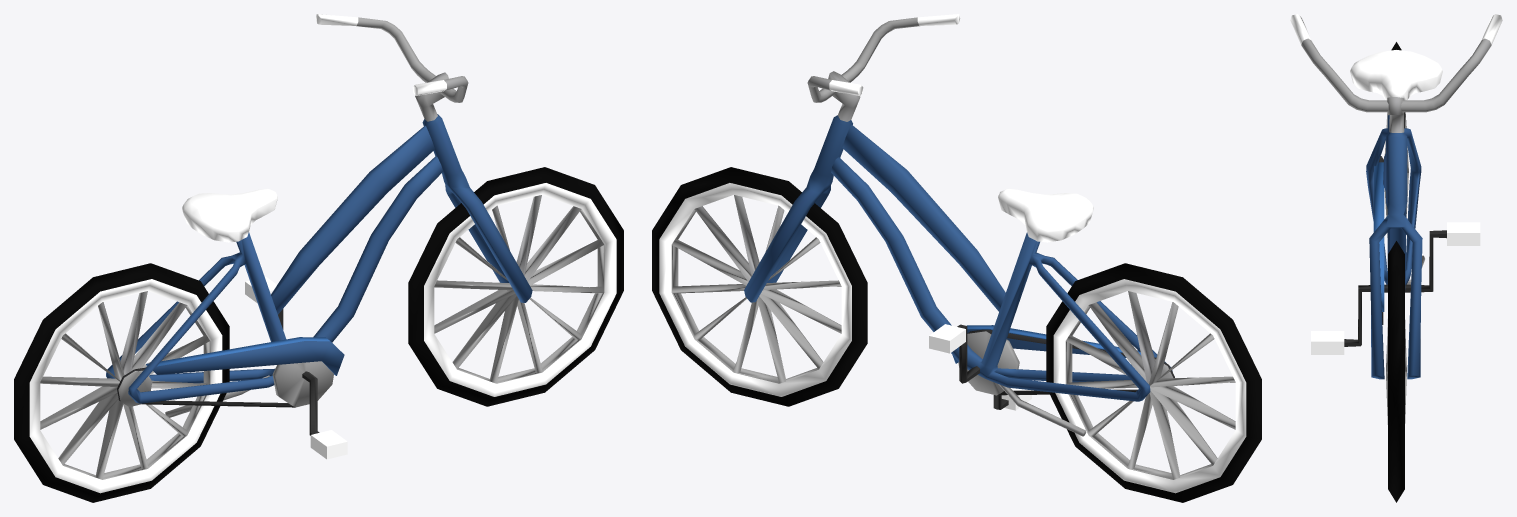
Rendered from BicycleBeachCruiserBlue.glb.
3 views of the same model, side by side, from view 1: azimuth 30°, elevation 25°; view 2: azimuth 150°, elevation 25°; view 3: azimuth 270°, elevation 25° (orthographic). The views are drawn at different scales.
Parts seen in each view (by area): view 1: BicycleBeachCruiserBlue; view 2: BicycleBeachCruiserBlue; view 3: BicycleBeachCruiserBlue.
Part boxes in pixels (bbox=[...]): BicycleBeachCruiserBlue: bbox=[14, 14, 623, 502]; BicycleBeachCruiserBlue: bbox=[652, 14, 1261, 502]; BicycleBeachCruiserBlue: bbox=[1290, 14, 1502, 502].
Size of the model in its own units: 2.47 by 1.49 by 0.7197.
1 material, 1 textured.
